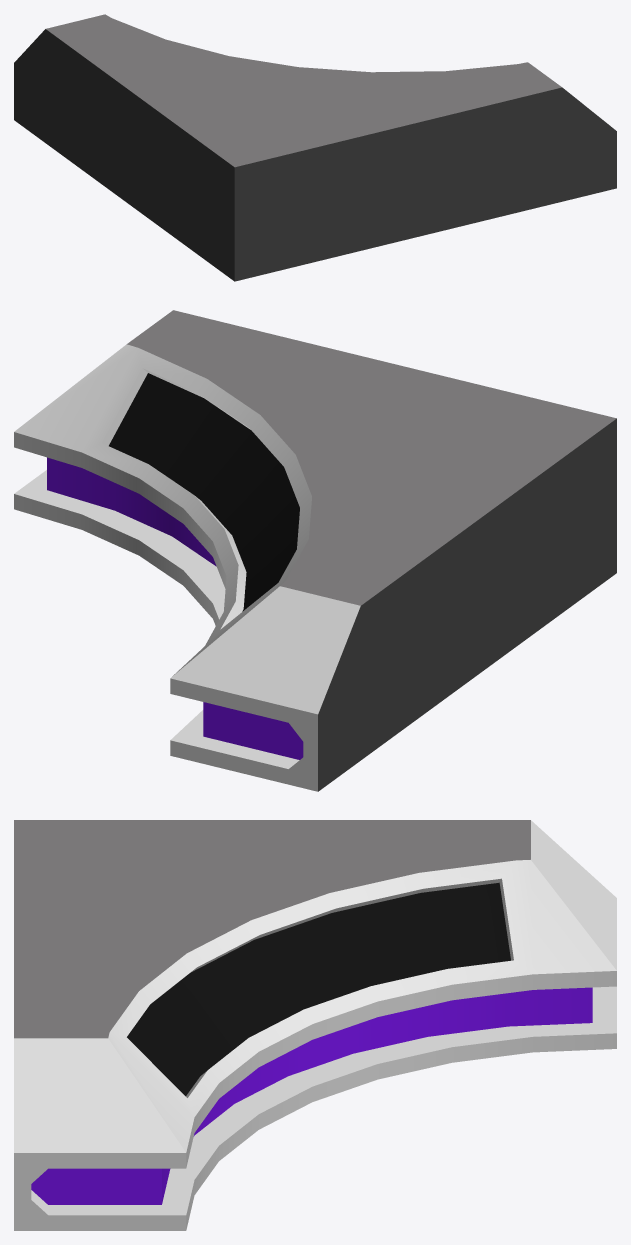
File: PlatformBorder00b_2.5InteriorCorner.fbx
3 views of the same model, one above another, from view 1: azimuth 30°, elevation 25°; view 2: azimuth 150°, elevation 25°; view 3: azimuth 270°, elevation 25° (orthographic). The views are drawn at different scales.
Parts seen in each view (by area): view 1: PlatformBorder00b_2.5InteriorCorner; view 2: PlatformBorder00b_2.5InteriorCorner; view 3: PlatformBorder00b_2.5InteriorCorner.
Part boxes in pixels (box(x1,y1,x2,y2)): PlatformBorder00b_2.5InteriorCorner: box(14, 14, 616, 281); PlatformBorder00b_2.5InteriorCorner: box(14, 310, 616, 791); PlatformBorder00b_2.5InteriorCorner: box(14, 820, 616, 1230).
Bounding box in the file's own units: 350 × 100 × 350.
